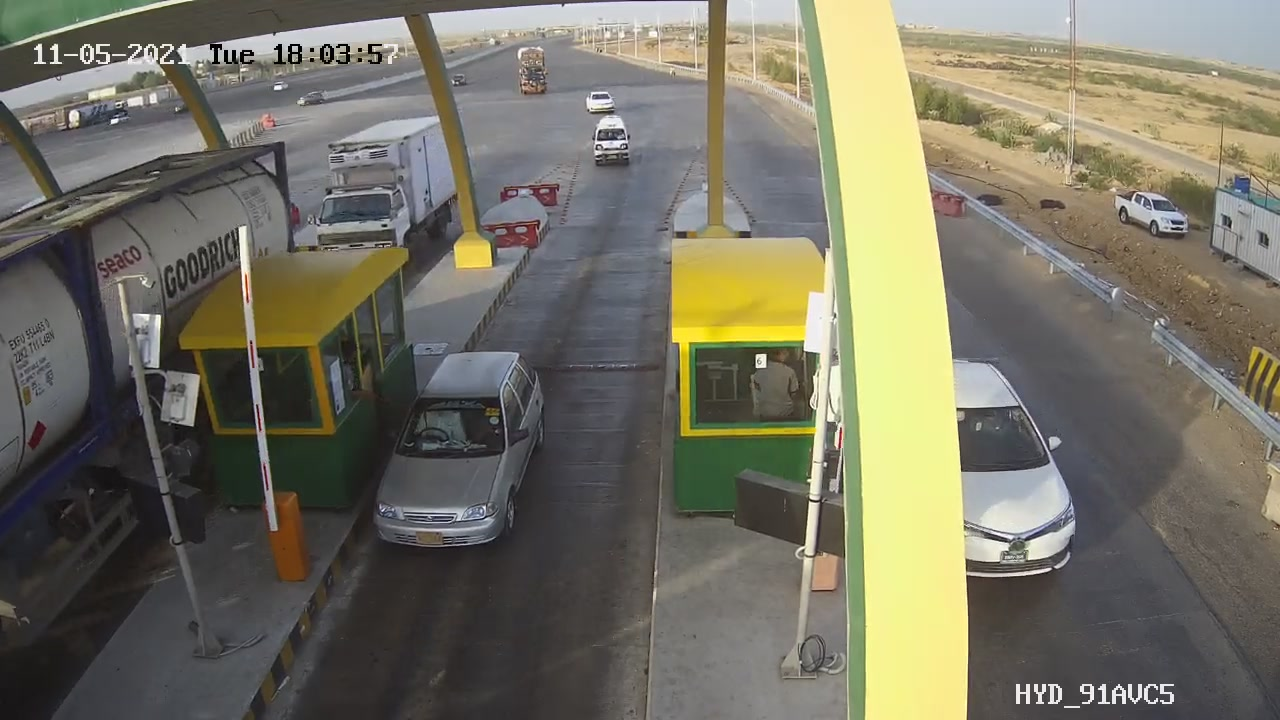F1: (356, 333, 559, 568)
